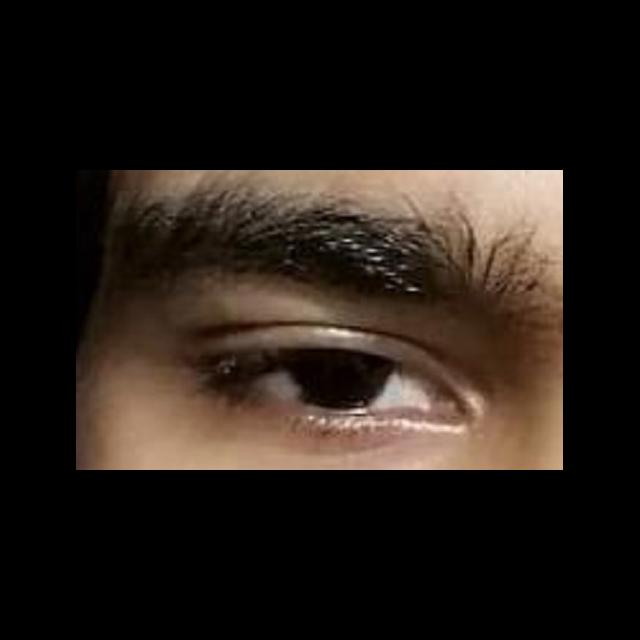eye: (243, 354, 435, 417)
iris: (284, 356, 398, 408)
